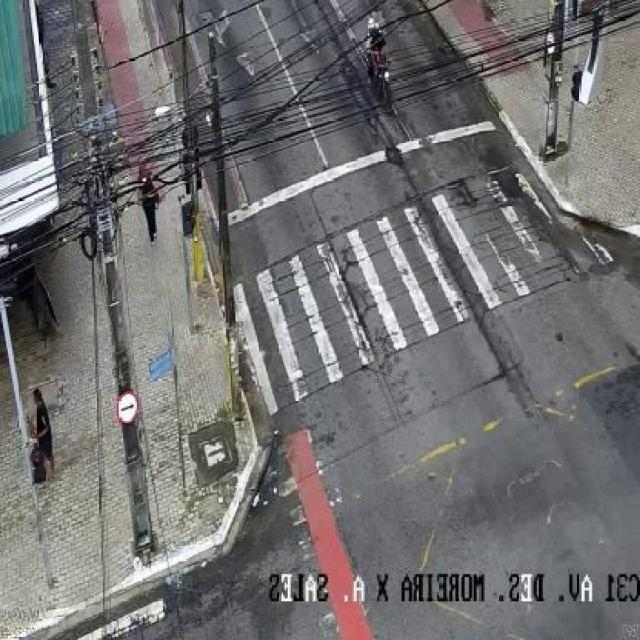Cycle: (338, 15, 420, 123)
